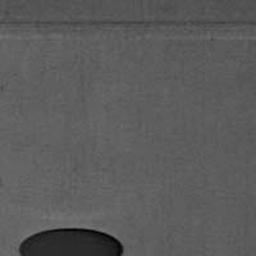Punching: (19, 228, 123, 256)
